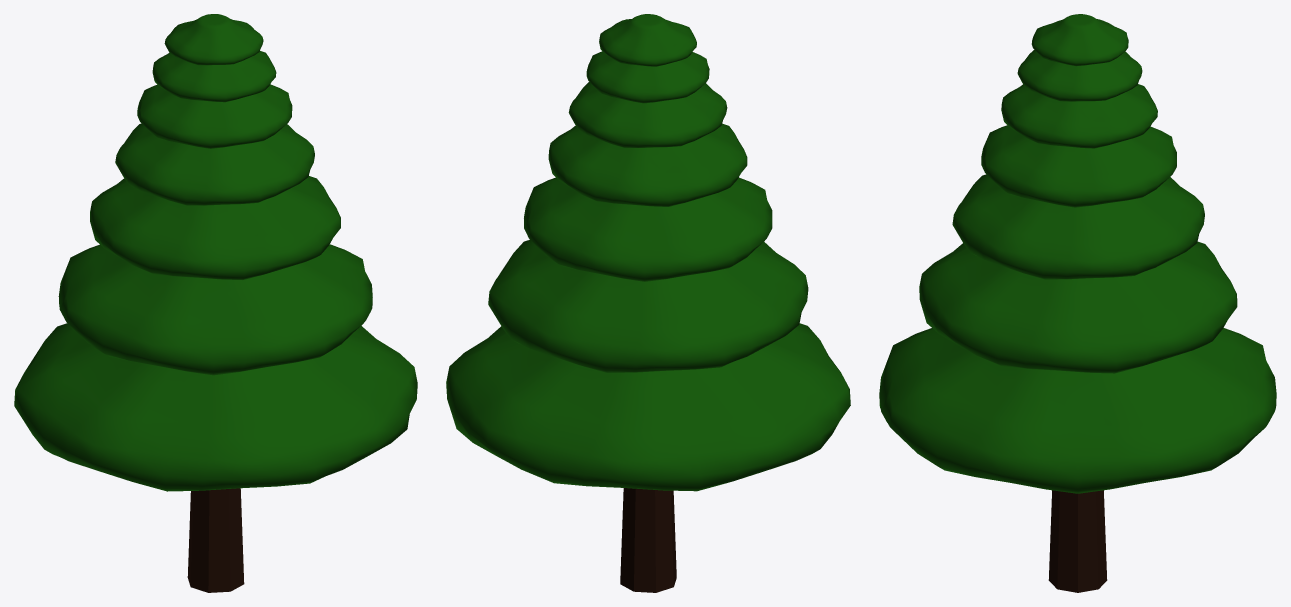
File: Tree.obj
The picture shows the model from 3 angles, left to right: view 1: azimuth 30°, elevation 25°; view 2: azimuth 150°, elevation 25°; view 3: azimuth 270°, elevation 25°; orthographic projection.
Visible parts, largest first — view 1: TreeTrunk_Plane; view 2: TreeTrunk_Plane; view 3: TreeTrunk_Plane.
Part boxes in pixels (x1,y1,x2,y2): TreeTrunk_Plane: [14, 14, 417, 592]; TreeTrunk_Plane: [446, 14, 850, 592]; TreeTrunk_Plane: [879, 14, 1276, 592].
Bounding box in the file's own units: 3.28 × 5.11 × 3.28.
